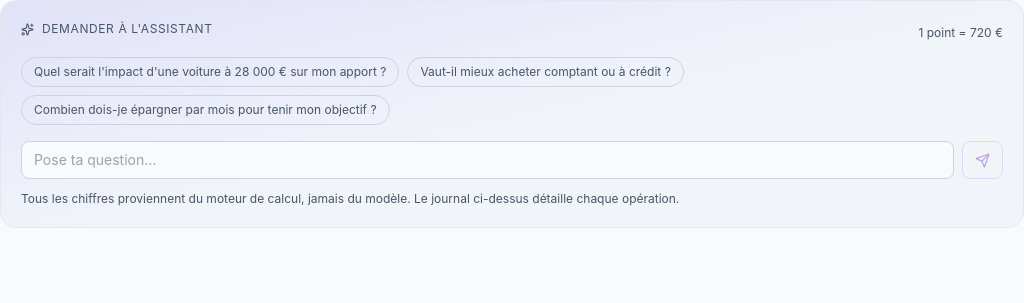
AssistantHorizon › indique quel fournisseur a répondu
Click the button "Combien dois-je épargner par mois pour tenir mon objectif ?" at point(205, 110), box [21,95,390,125]
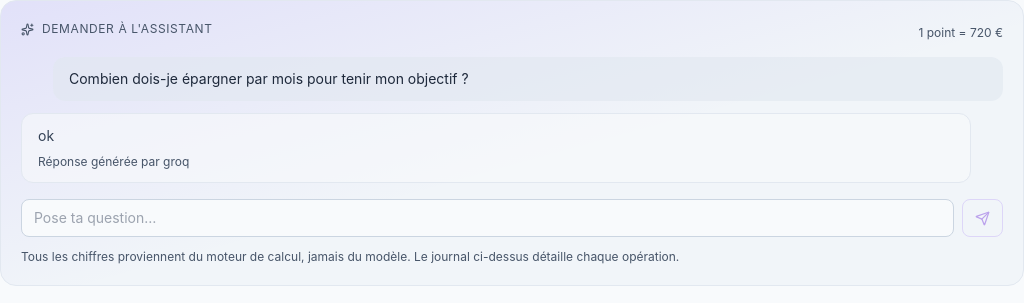
Check: the text "Réponse générée par groq" is shown, box [38,154,189,169]
